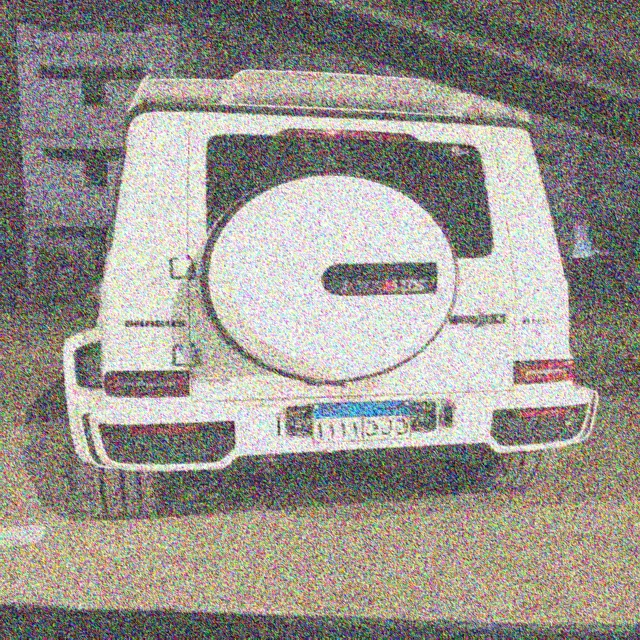License Plate: (310, 399, 412, 444)
